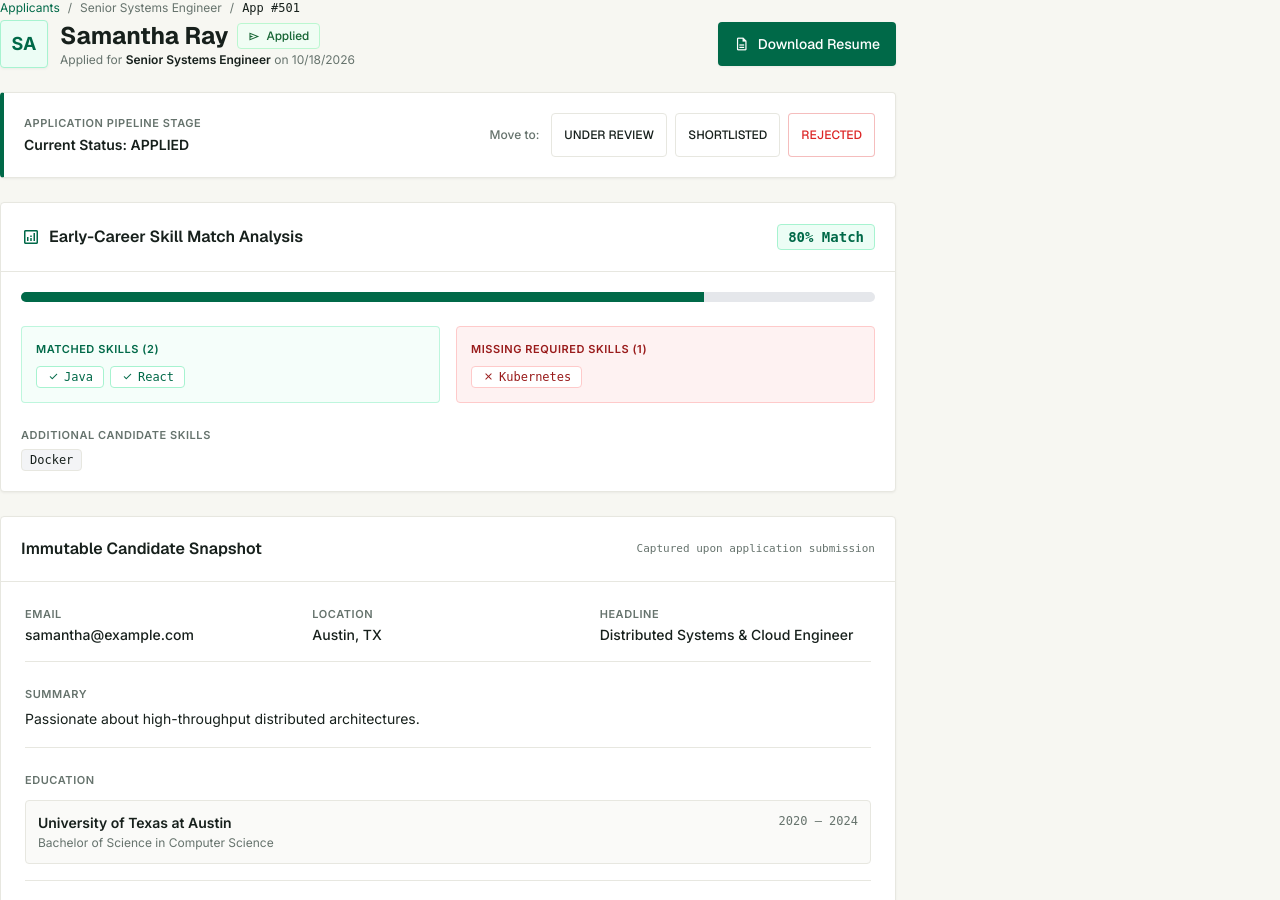
Test case: RecruiterApplicationDetailPage › opens confirmation modal and updates status with recruiter note
Expected: the heading "Samantha Ray" is shown, [60,20,229,52]
Click SHORTLISTED button
Click the button "SHORTLISTED": {"x": 728, "y": 135} [675,113,780,157]
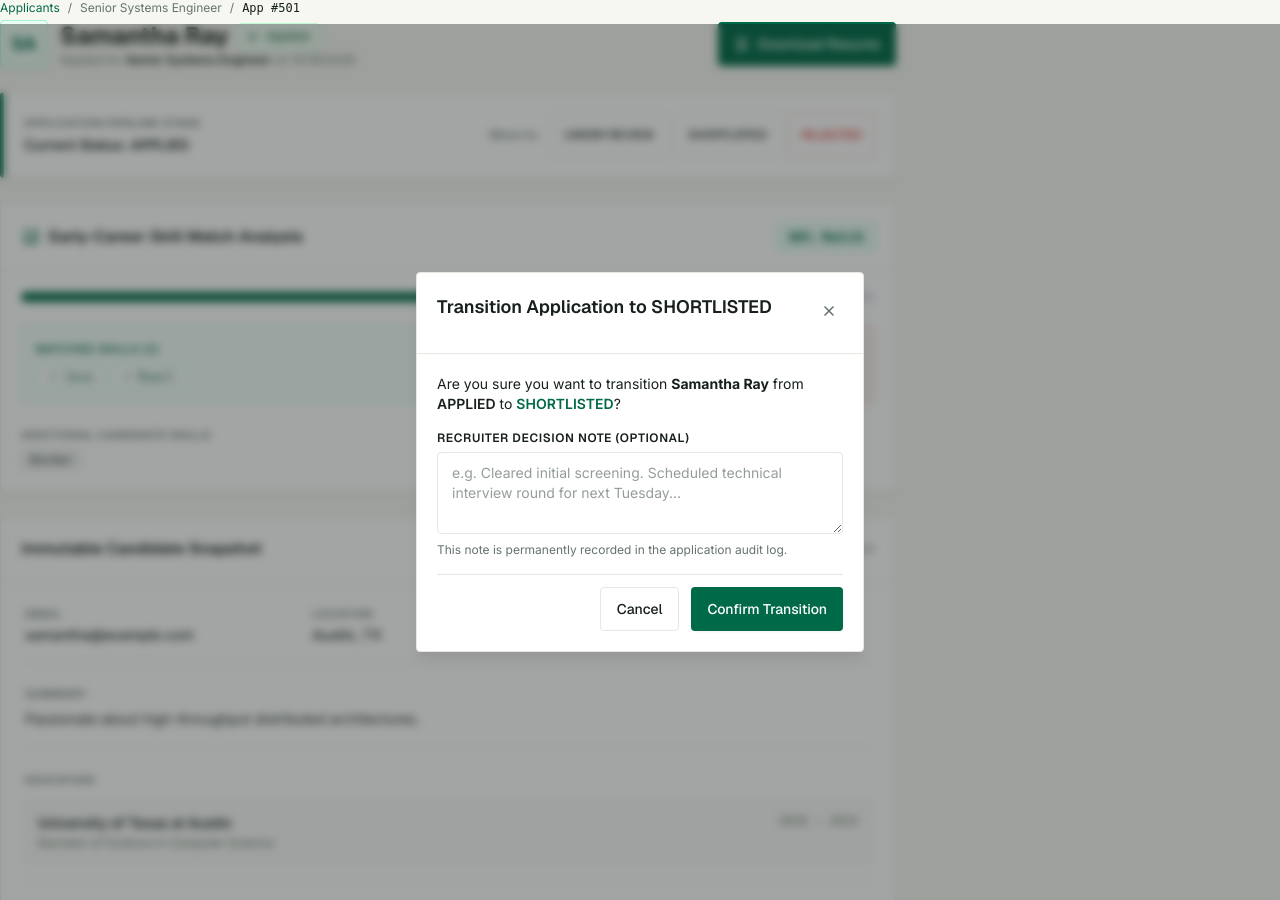
Expected: the heading "Transition Application to SHORTLISTED" is shown, [437,293,772,321]
Replace the text in the text box with placeholder "Cleared initial screening" with "Strong systems background.": {"x": 640, "y": 493} [437,452,843,534]
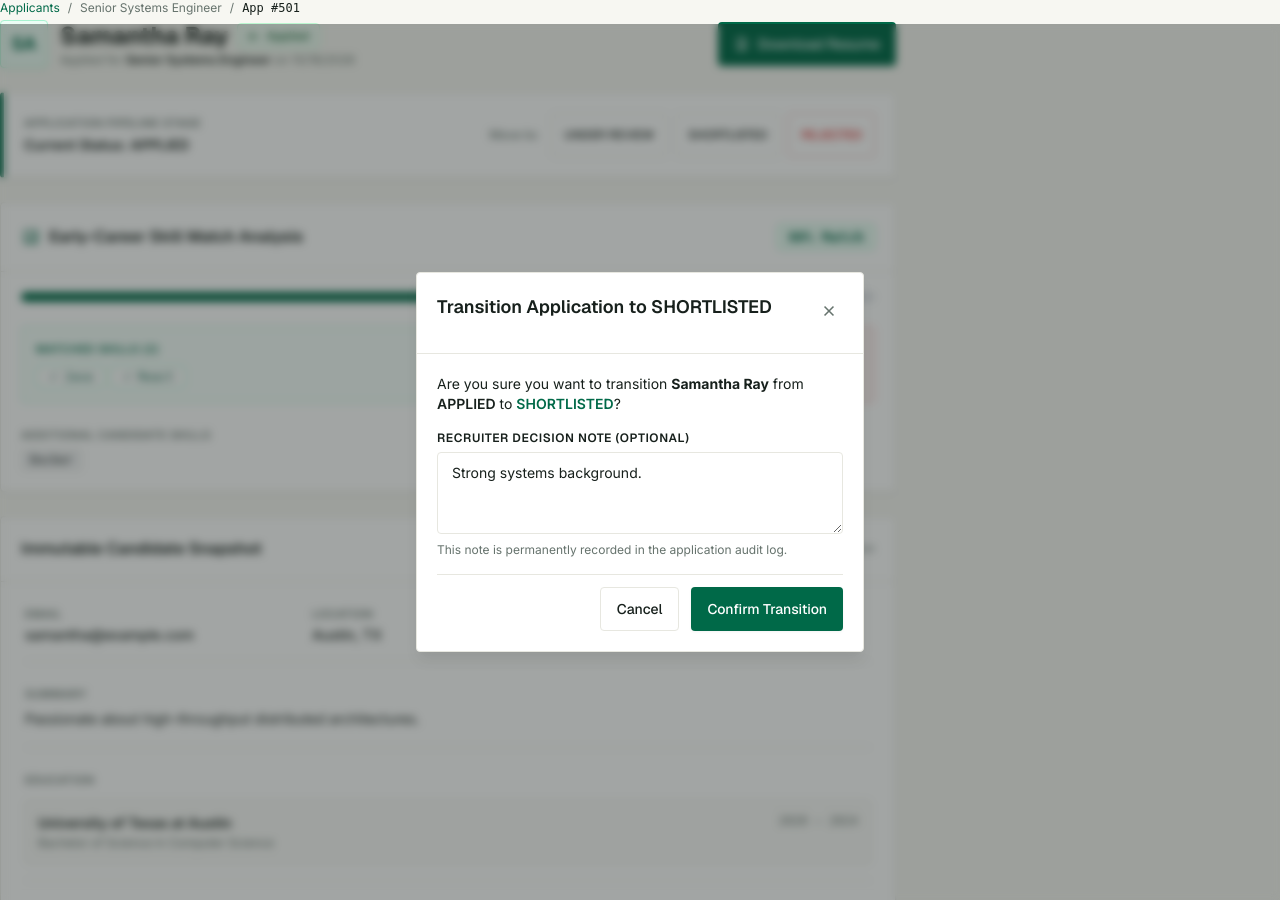
Click the button "Confirm Transition": {"x": 767, "y": 609} [691,587,843,631]
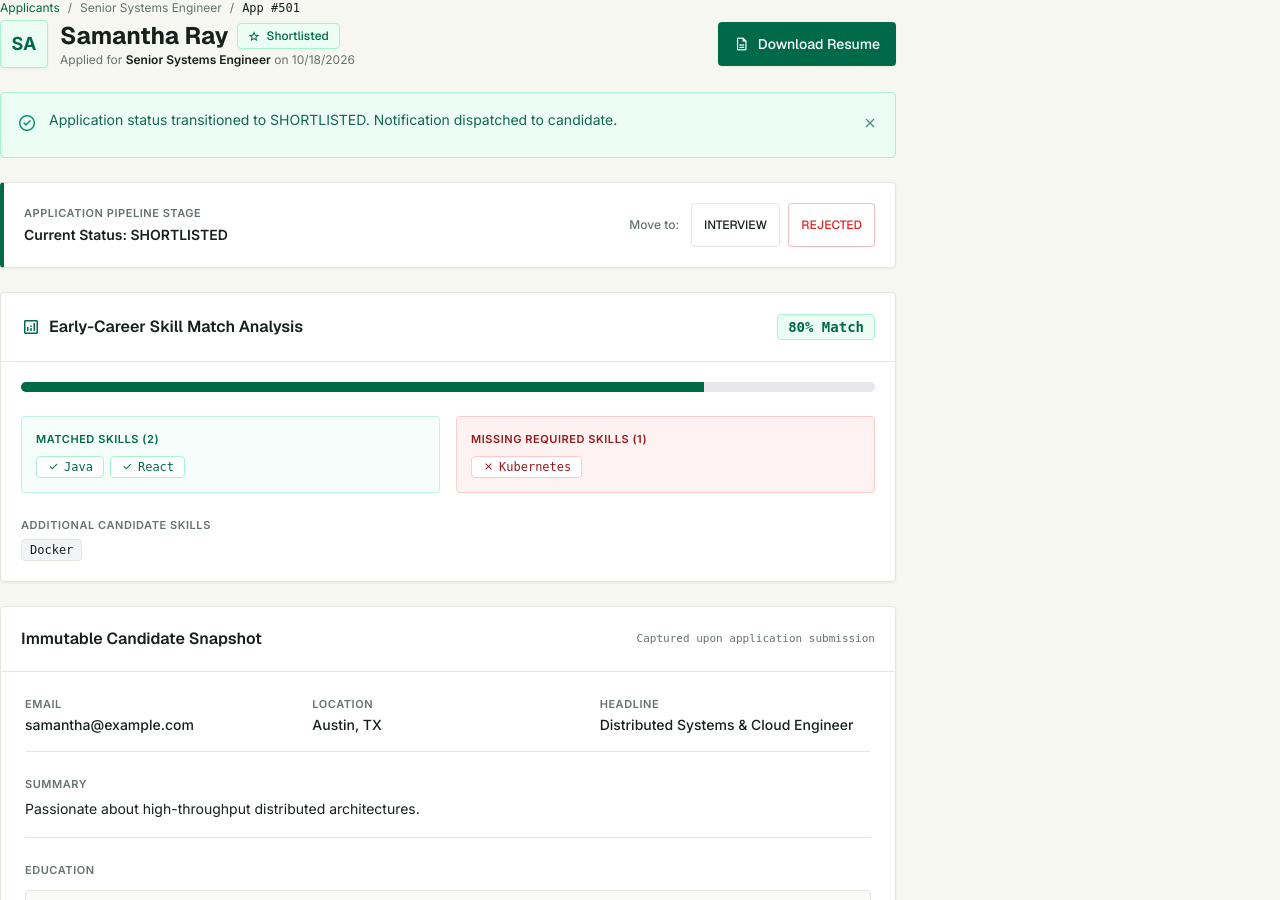
Expected: the text "Application status transitioned to SHORTLISTED" is shown, [49,111,617,128]
